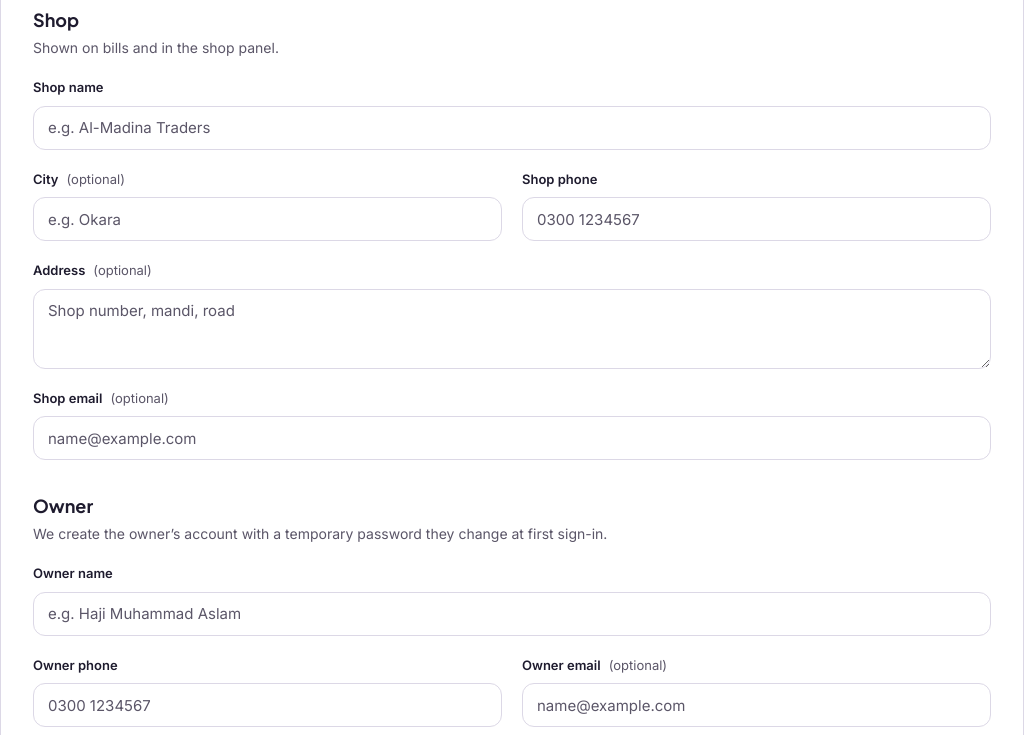
Test case: CreateShopForm › shows a general error when the server can't be reached
In the field labelled "Shop name": (512, 128) x1=33 y1=106 x2=991 y2=150, type "Al-Madina Traders"
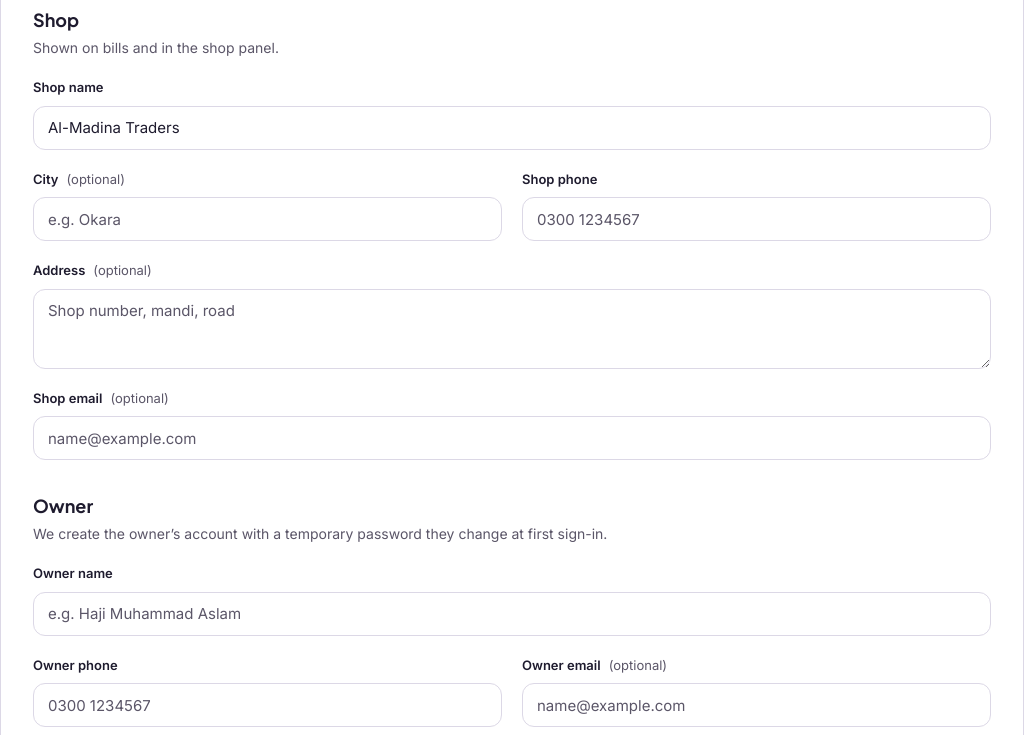
In the field labelled "City (optional)": (268, 219) x1=33 y1=197 x2=502 y2=241, type "Okara"
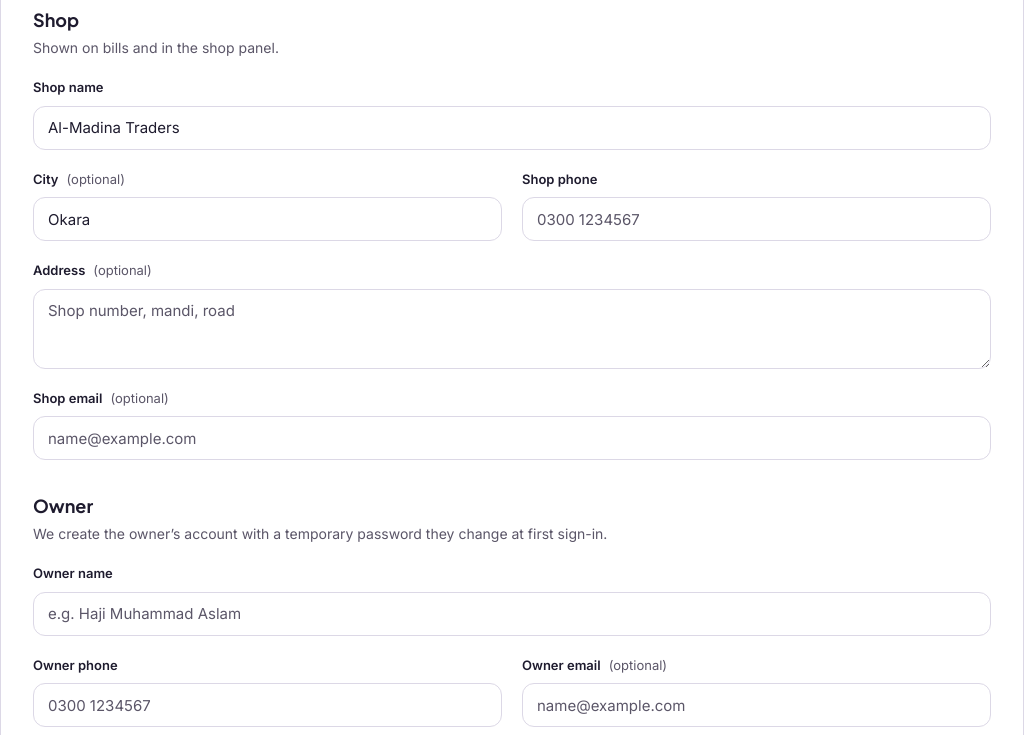
In the field labelled "Shop phone": (756, 219) x1=522 y1=197 x2=991 y2=241, type "0300-1234567"
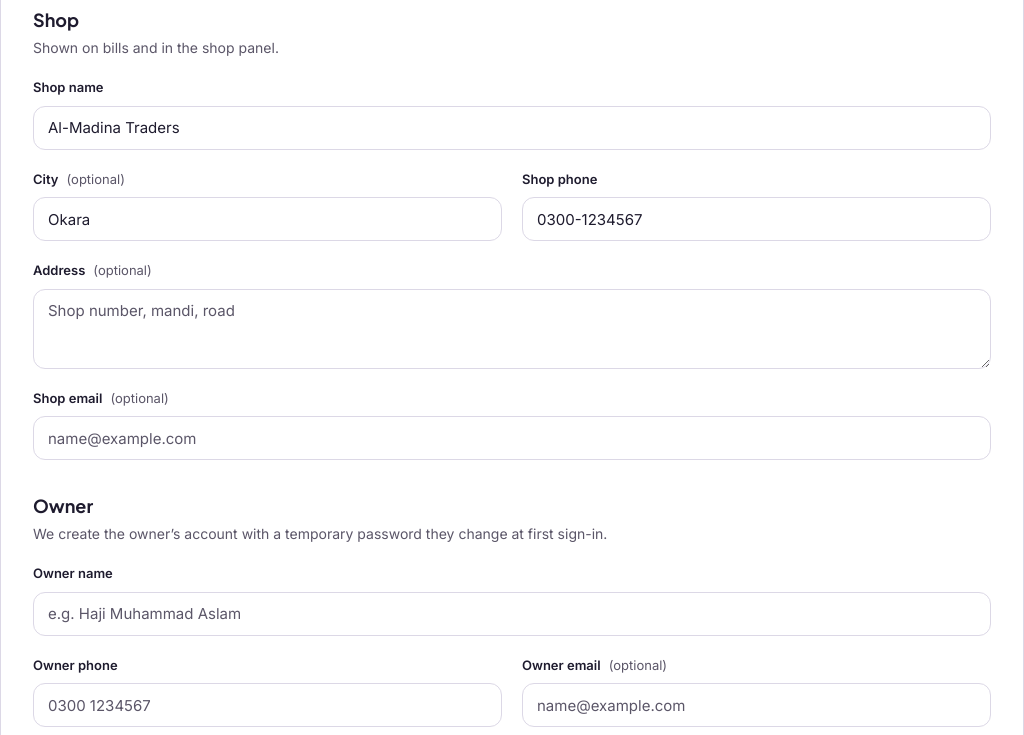
In the field labelled "Owner name": (512, 614) x1=33 y1=592 x2=991 y2=636, type "Haji Aslam"
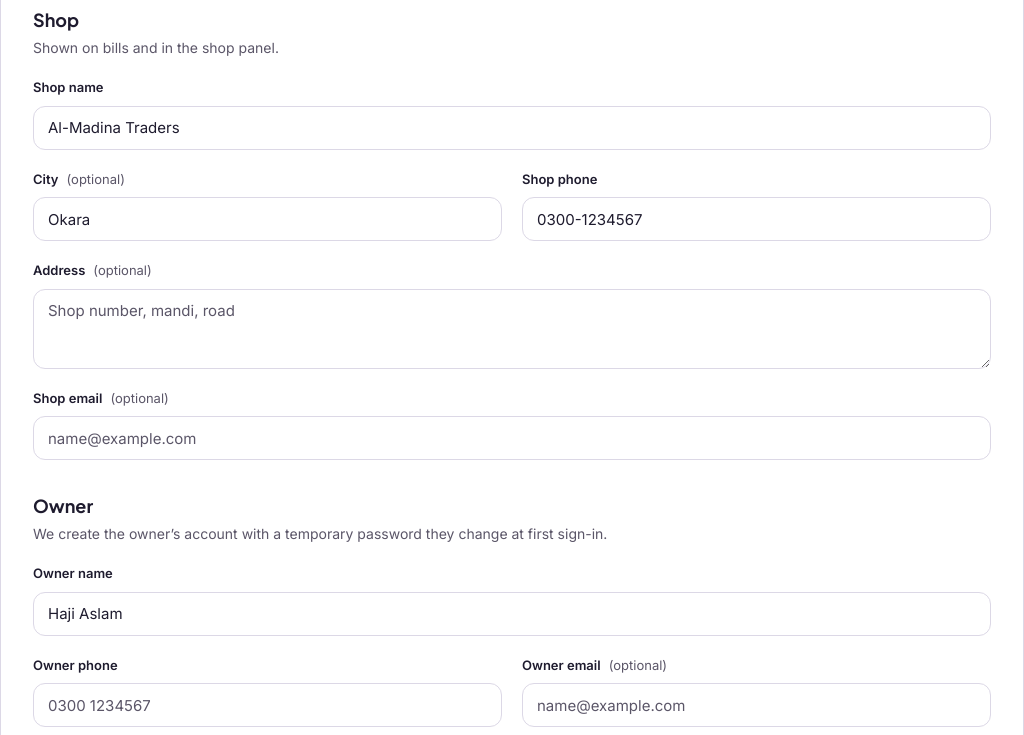
In the field labelled "Owner phone": (268, 705) x1=33 y1=683 x2=502 y2=727, type "0300 7654321"
(page scrolled)
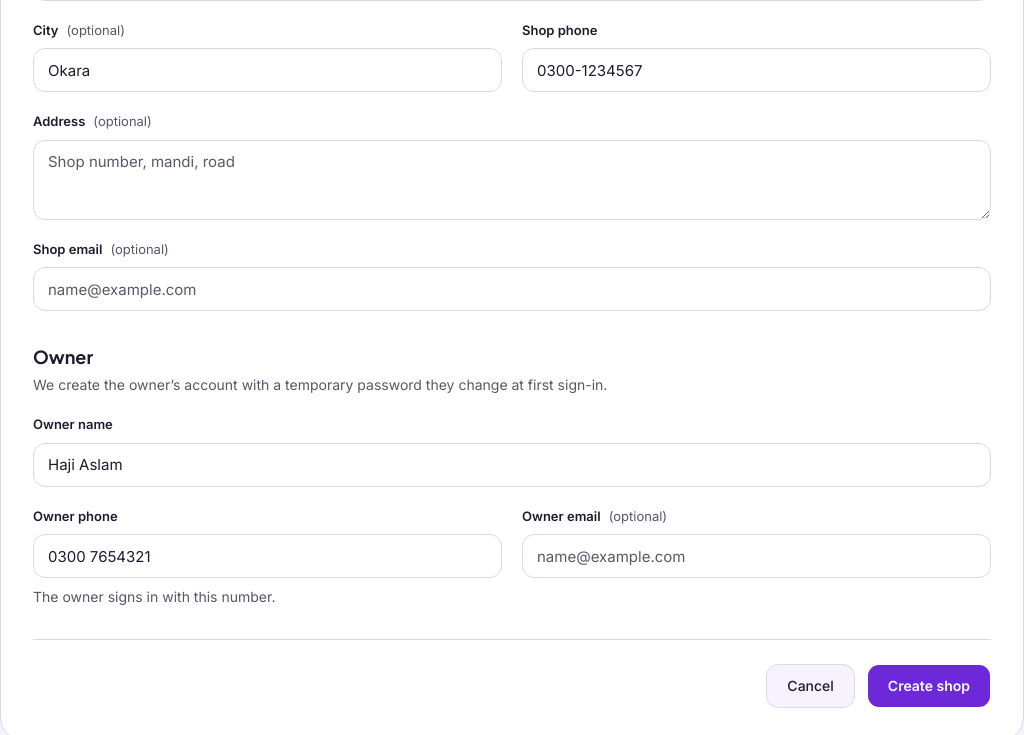
Click the button "Create shop": (929, 686) x1=867 y1=664 x2=991 y2=708
(page scrolled)
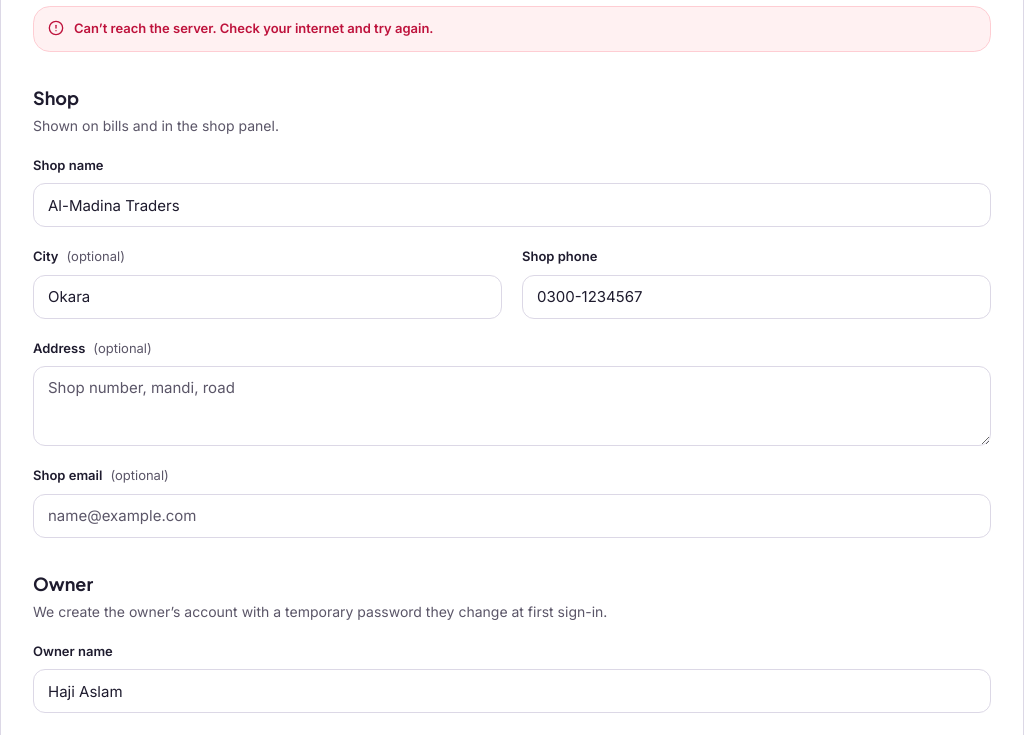
Expected: the message shows "Can’t reach the server", x1=74 y1=20 x2=434 y2=36
